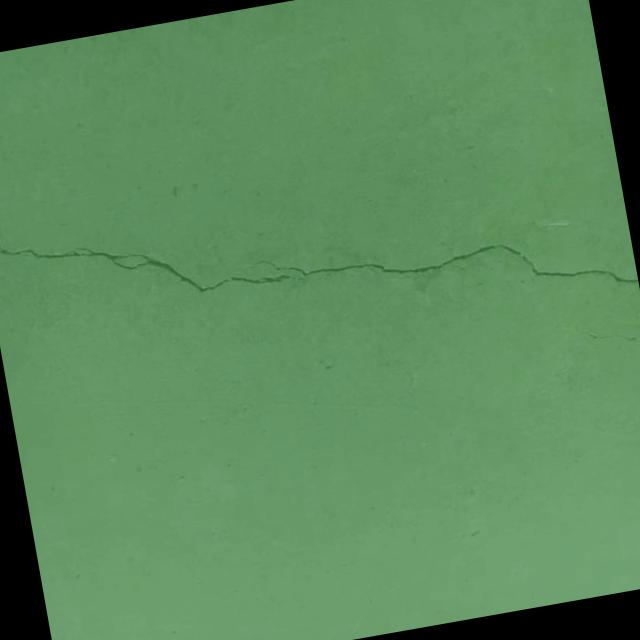crack: (0, 125, 638, 394), (556, 308, 640, 354)
